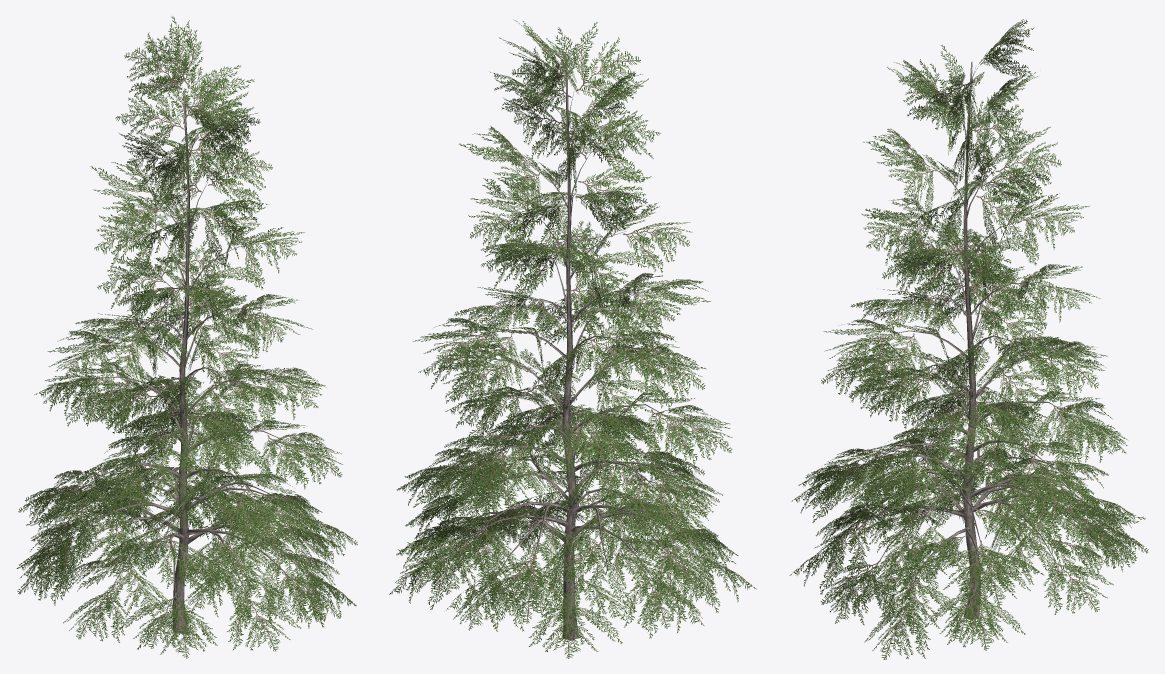
The model's file is fir_tree-v1.glb.
3 renders of one model, left to right at view 1: azimuth 30°, elevation 25°; view 2: azimuth 150°, elevation 25°; view 3: azimuth 270°, elevation 25°, orthographic. The views are drawn at different scales.
Visible parts, largest first — view 1: Tree_1, Tree_0; view 2: Tree_1, Tree_0; view 3: Tree_1, Tree_0.
Boxes of the visible parts, left/top/right/bottom form: Tree_1: left=16, top=16, right=357, bottom=658; Tree_0: left=68, top=90, right=298, bottom=633; Tree_1: left=389, top=19, right=756, bottom=658; Tree_0: left=449, top=59, right=693, bottom=640; Tree_1: left=789, top=19, right=1148, bottom=659; Tree_0: left=847, top=61, right=1085, bottom=619.
Bounding box in the file's own units: 2.39 × 4.39 × 2.37.
Materials: 2 (2 with a texture image).
